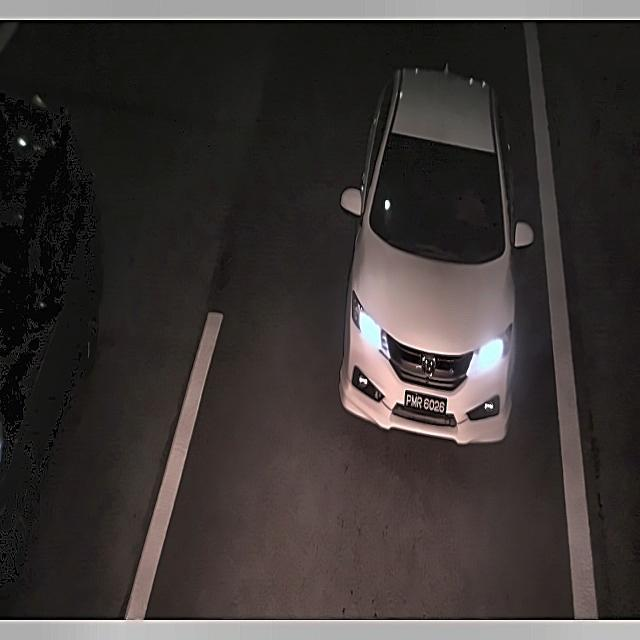car: (398, 385, 454, 423)
